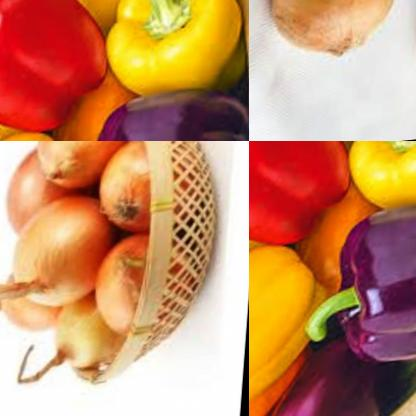bell pepper: (99, 0, 249, 123), (317, 205, 416, 382), (0, 0, 121, 141), (249, 235, 342, 416), (249, 141, 363, 269), (75, 91, 249, 141), (271, 341, 386, 416), (20, 0, 178, 47), (341, 141, 416, 237)
onion: (7, 193, 107, 324), (272, 0, 408, 66), (88, 235, 157, 351), (93, 141, 163, 248), (1, 149, 75, 244), (21, 141, 126, 205), (49, 288, 117, 380), (0, 269, 83, 341)
